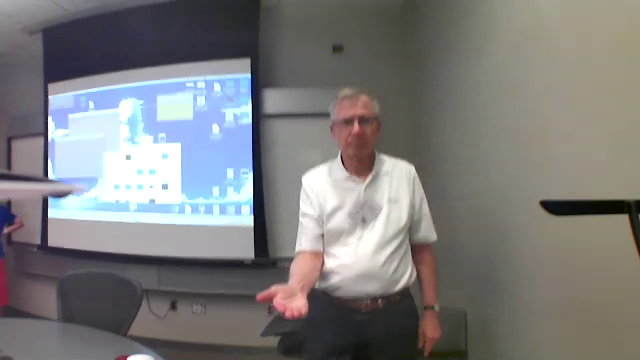land: (246, 276, 326, 327)
